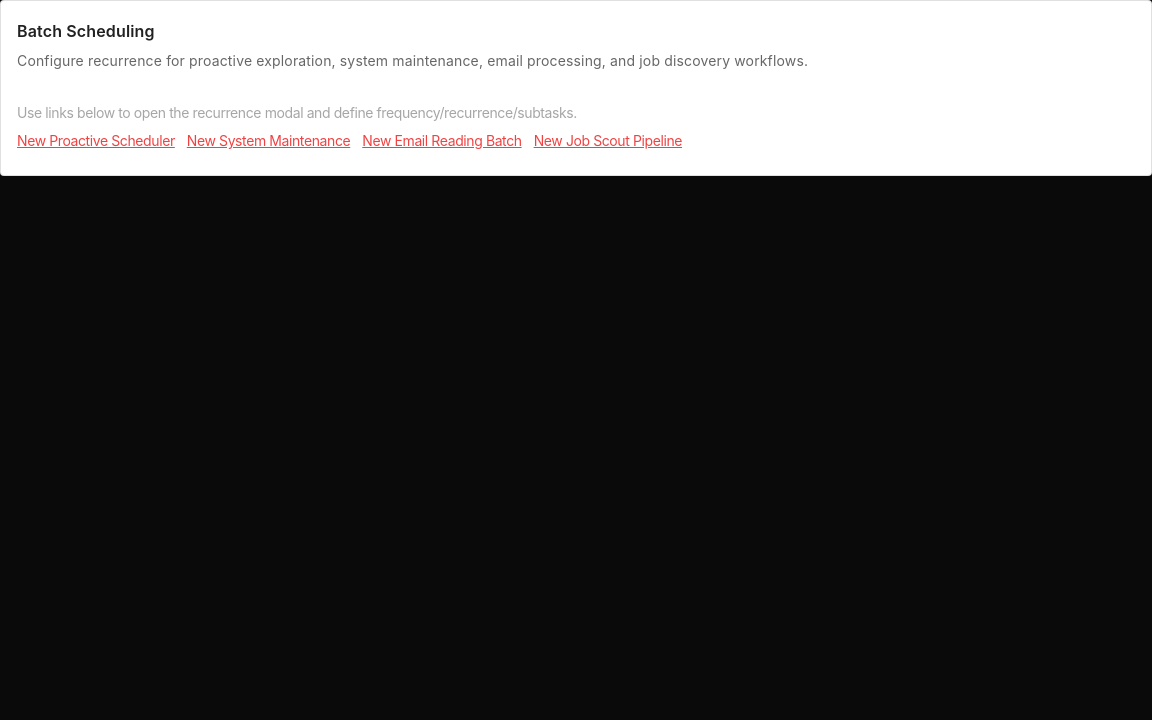
SchedulerConfig — interactions › maintenance batch shows no parameter fields (it has none)
Click the button "New System Maintenance" at (269, 141), box [187, 131, 350, 151]
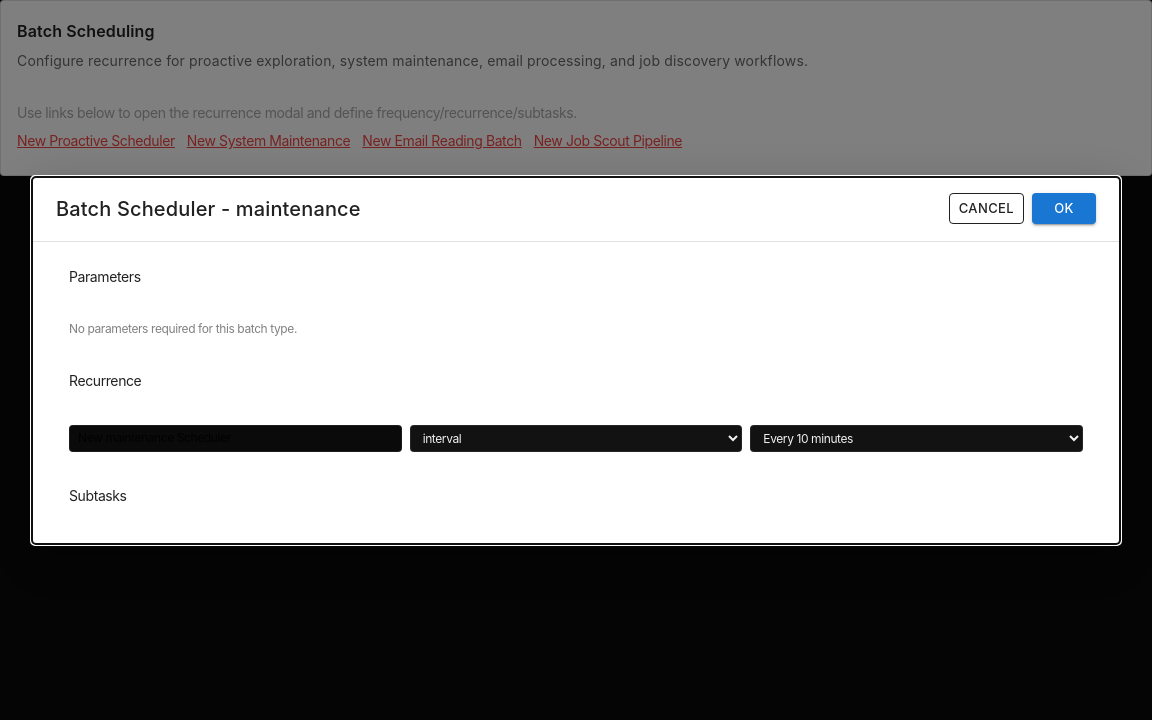
Expected: the text "No parameters required for this batch type." is shown, [69, 320, 297, 336]
